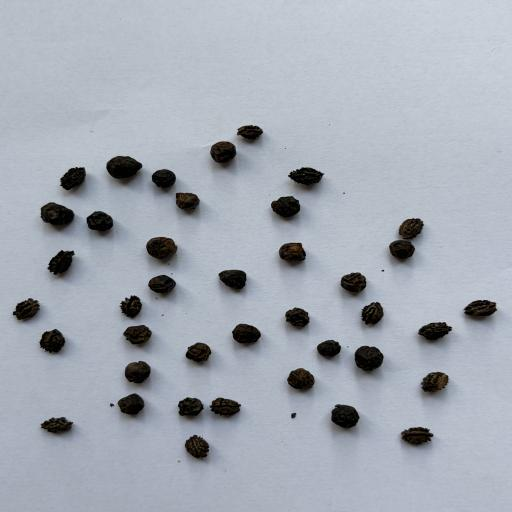Black_pepper: (114, 318, 162, 354), (136, 231, 188, 262), (101, 150, 143, 184), (348, 340, 391, 373), (36, 197, 78, 230), (228, 317, 271, 349), (180, 334, 220, 366), (264, 192, 304, 220), (198, 140, 240, 166), (118, 356, 156, 384), (217, 263, 250, 294), (142, 273, 185, 296), (171, 390, 205, 418), (83, 206, 117, 233), (282, 368, 320, 392), (310, 334, 342, 362), (329, 402, 362, 428), (381, 240, 416, 264), (279, 242, 310, 268), (116, 391, 149, 414), (340, 270, 369, 296), (172, 191, 204, 214), (284, 305, 314, 328), (149, 167, 180, 189)
papaya_seed: (382, 418, 444, 452), (282, 163, 350, 190), (92, 291, 153, 318), (40, 246, 84, 280), (32, 327, 76, 359), (35, 413, 84, 440), (52, 159, 89, 194), (410, 316, 455, 344), (417, 364, 454, 396), (180, 432, 218, 462), (360, 298, 390, 330), (7, 296, 46, 320), (459, 297, 503, 318), (209, 394, 244, 420), (398, 214, 430, 241), (236, 122, 268, 142)
